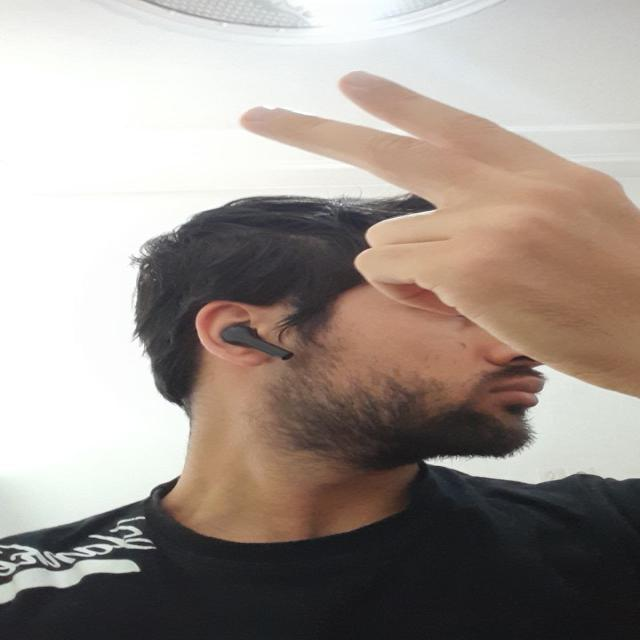Head: (124, 192, 554, 478)
Two: (233, 61, 640, 390)
